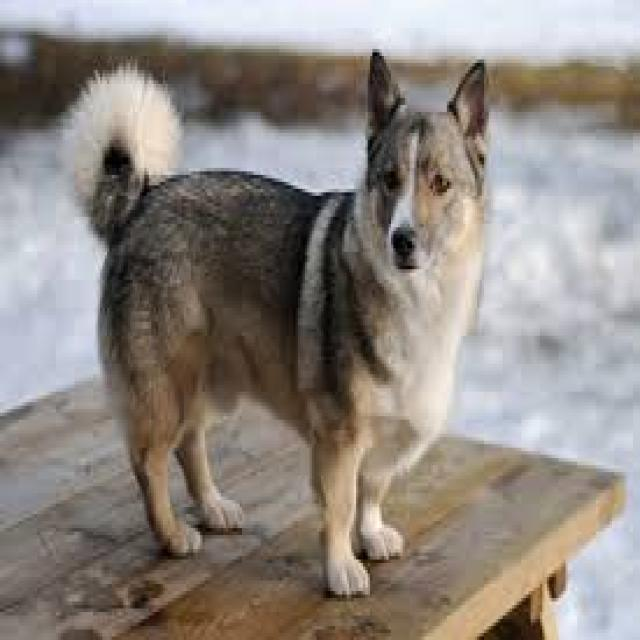CORGI: (43, 42, 497, 622)
